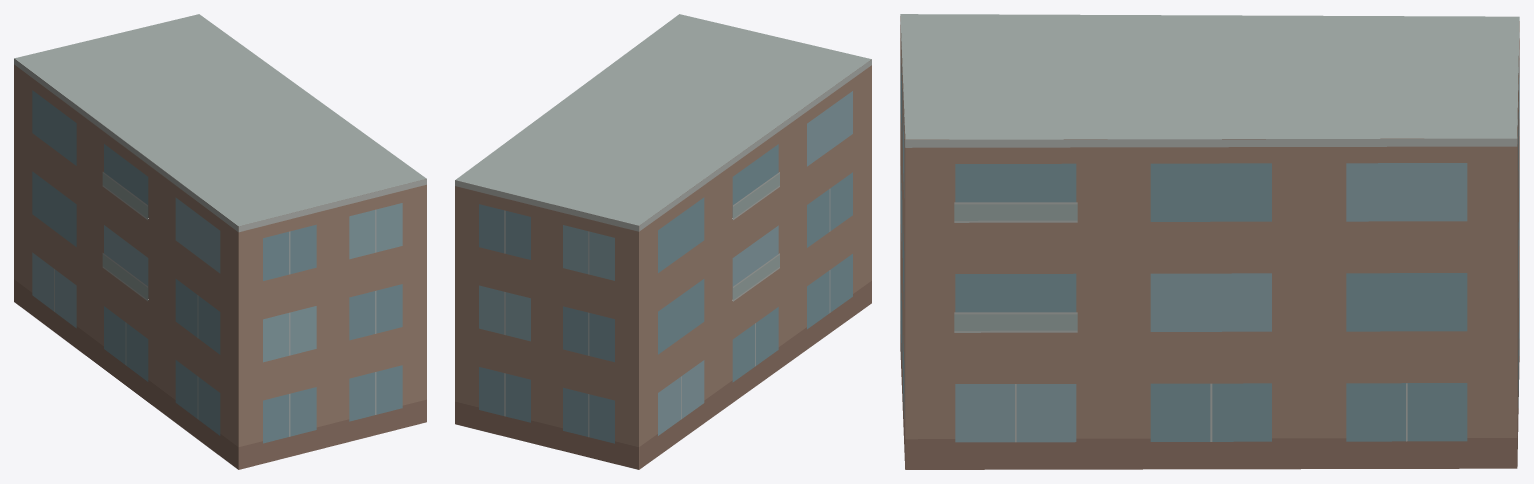
File: survey-upis-33017358.glb
The picture shows the model from 3 angles, left to right: view 1: azimuth 30°, elevation 25°; view 2: azimuth 150°, elevation 25°; view 3: azimuth 270°, elevation 25°; orthographic projection. The views are drawn at different scales.
Visible parts, largest first — view 1: survey-upis-33017358.tmp; view 2: survey-upis-33017358.tmp; view 3: survey-upis-33017358.tmp.
Boxes of the visible parts, box(x1,y1,x2,y2) form: survey-upis-33017358.tmp: box(14, 14, 426, 469); survey-upis-33017358.tmp: box(455, 14, 871, 469); survey-upis-33017358.tmp: box(900, 14, 1519, 469).
Size of the model in its own units: 8.21 by 10 by 17.01.
